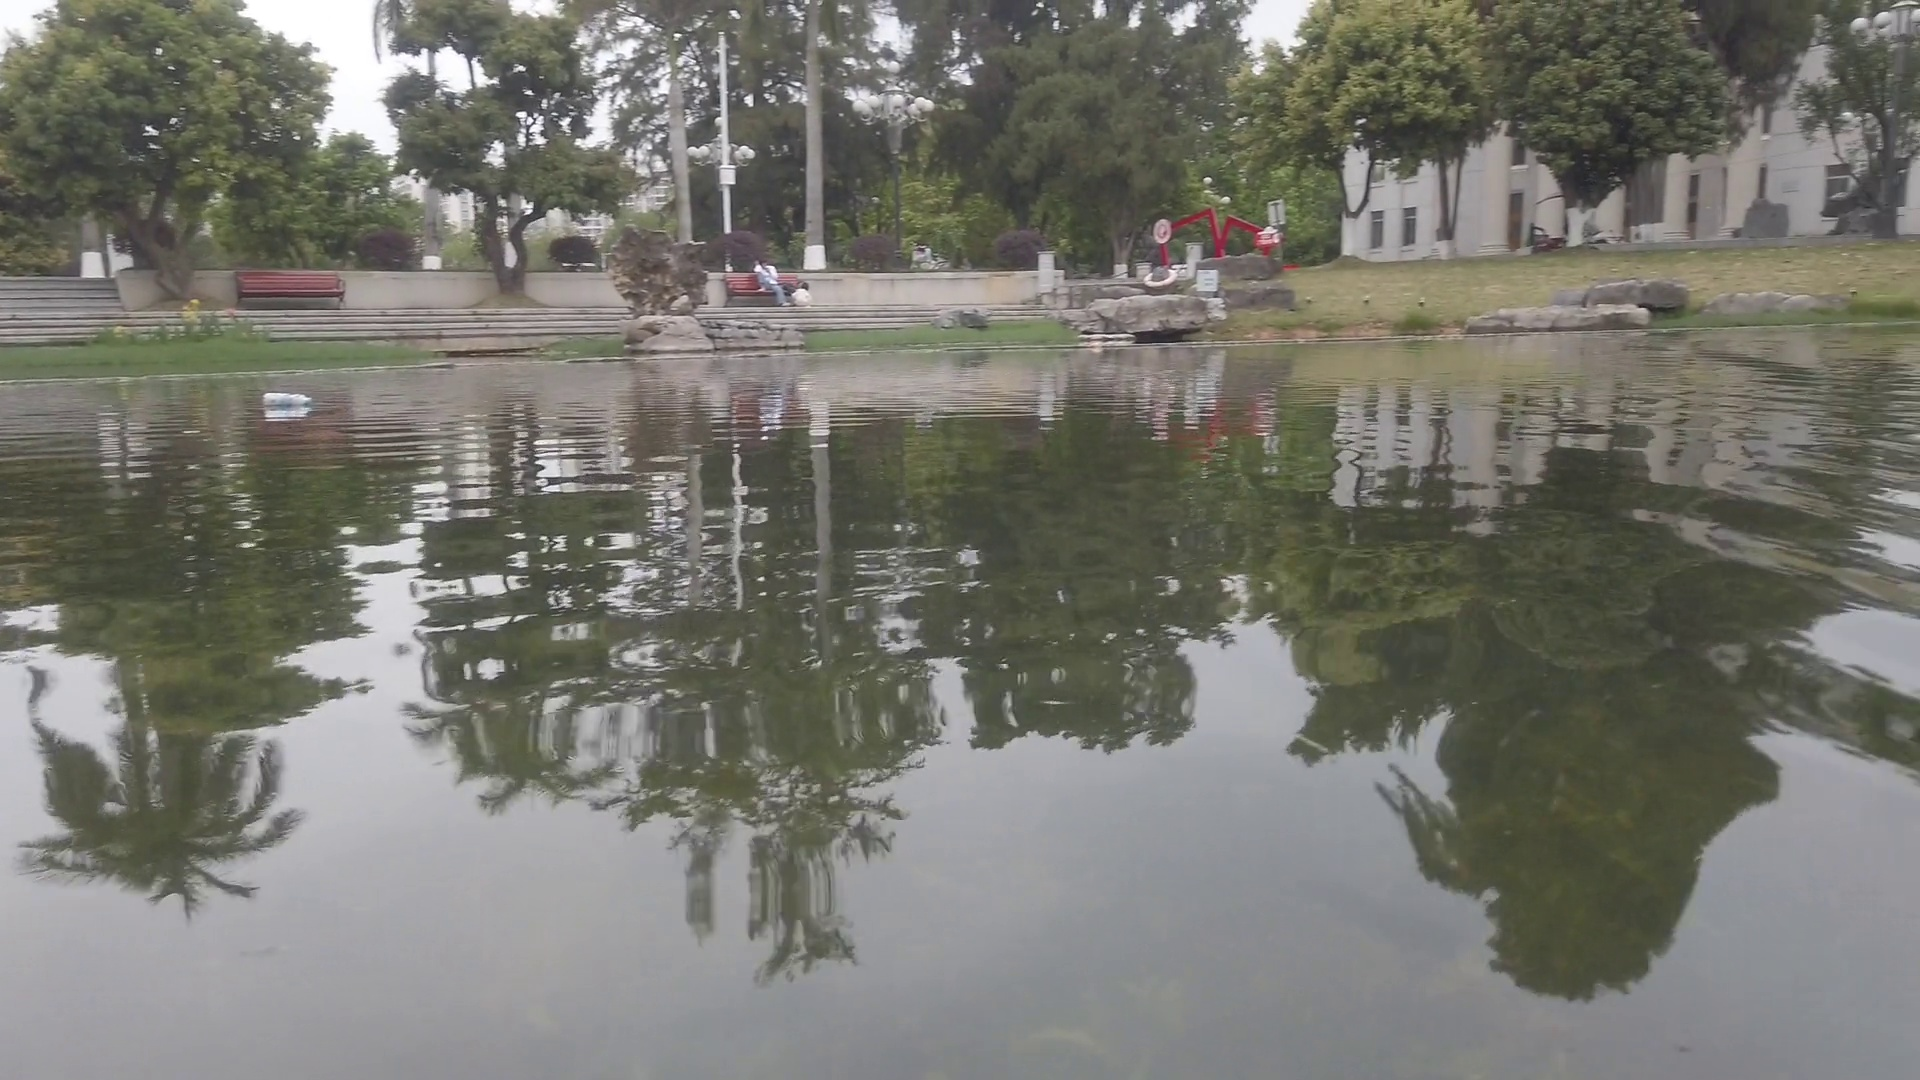bottle: (264, 390, 313, 404)
